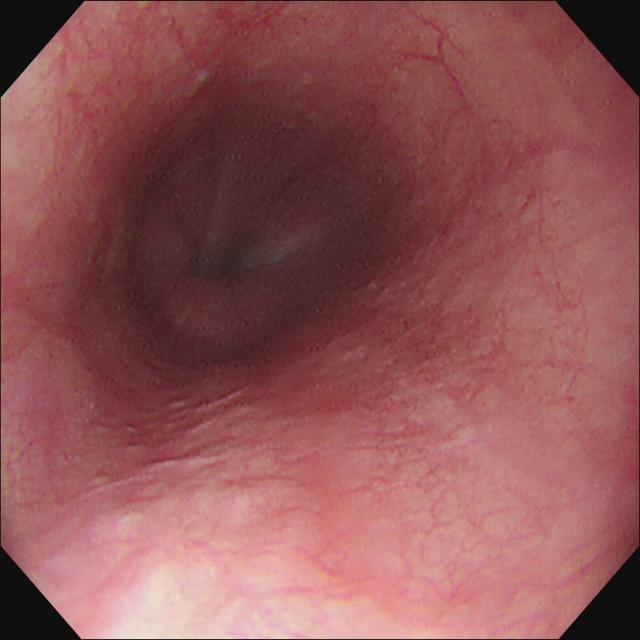I: (140, 158, 316, 343)
